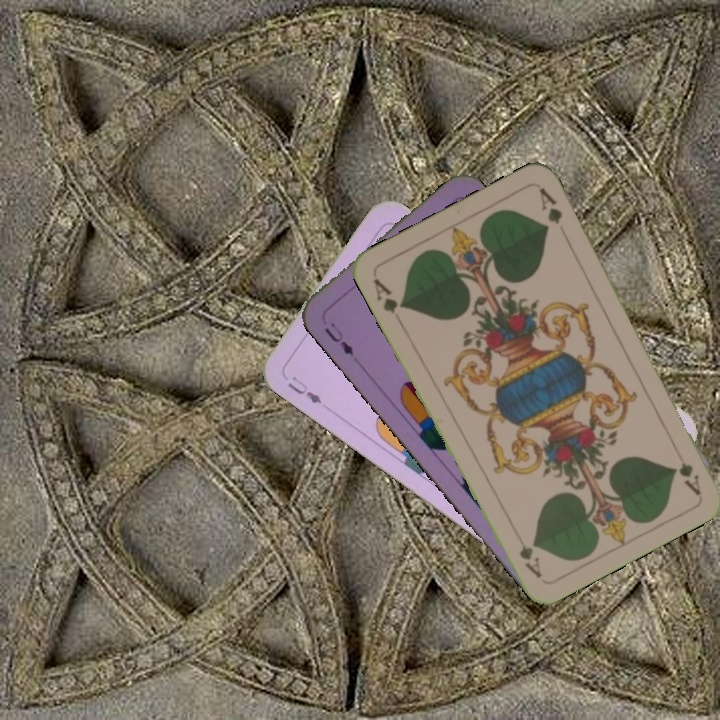EU: (320, 318, 357, 359), (283, 372, 325, 407)
GA: (369, 273, 408, 327), (674, 458, 704, 498)
